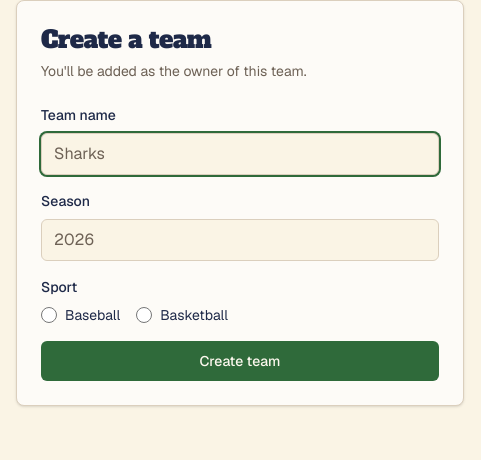
New team page › shows the all-play checkbox only once Baseball is picked
This screenshot has width=481, height=460.
Click the radio button labelled "Baseball" at (49, 315), box [41,307,57,323]
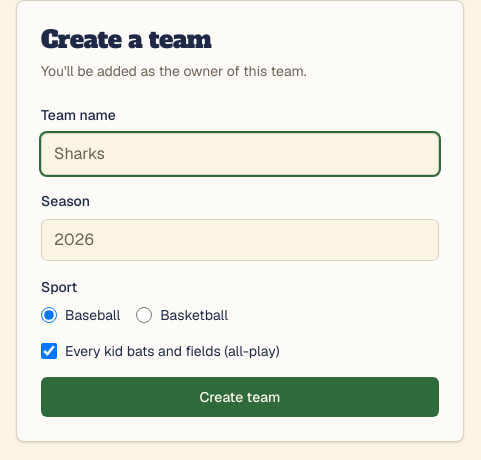
Now the checkbox labelled "Every kid bats and fields (all-play)" is checked, box [41,343,57,359]
Click the radio button labelled "Basketball" at (144, 315), box [136,307,152,323]
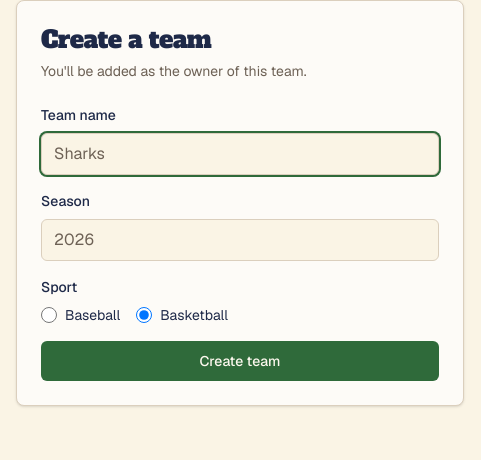
Now the checkbox is gone
